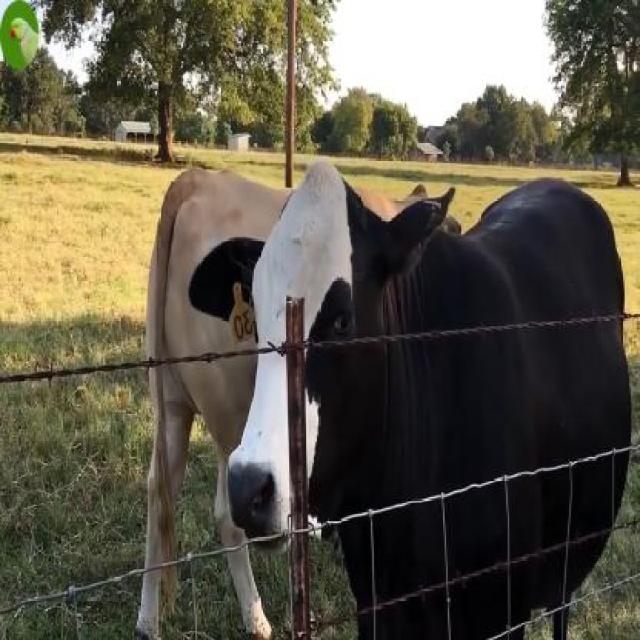Cow: (189, 164, 631, 638)
